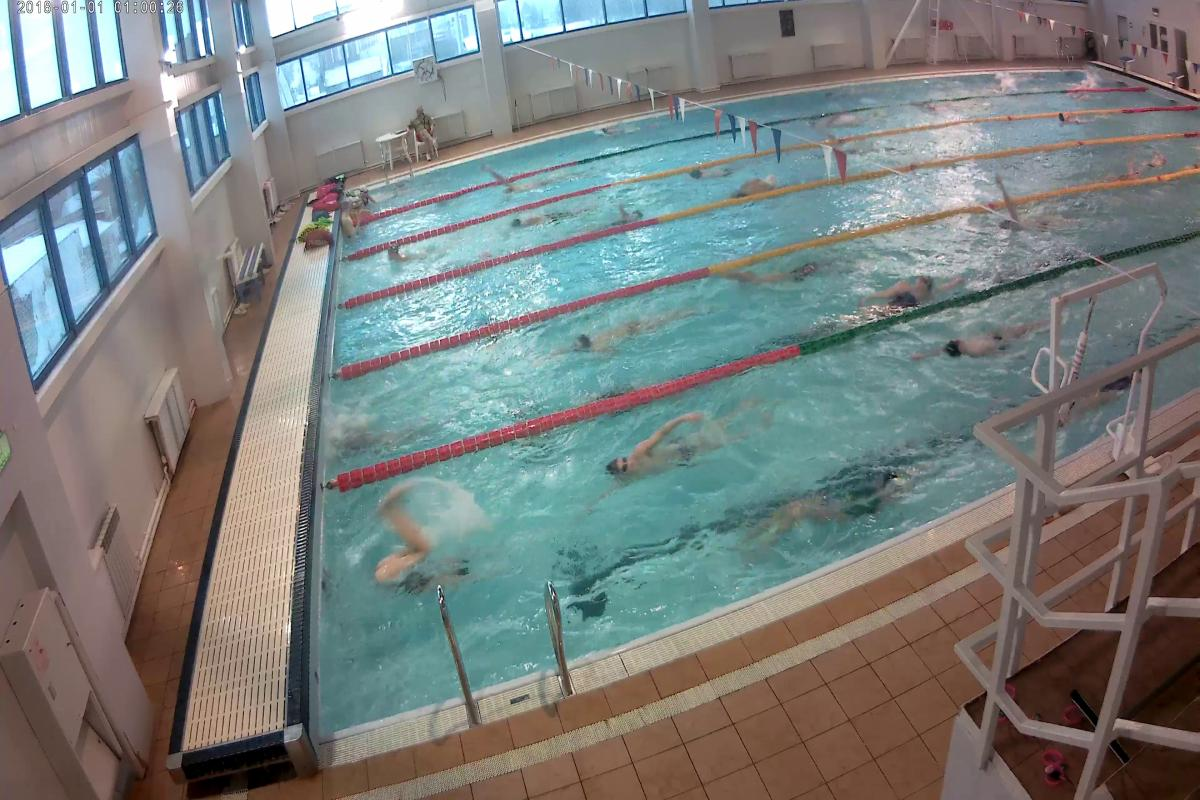swimmer: (767, 464, 904, 546), (603, 403, 734, 479), (364, 511, 477, 597), (546, 311, 686, 352), (918, 326, 1033, 369), (997, 192, 1069, 250), (856, 262, 947, 307), (344, 413, 426, 447), (732, 258, 838, 284), (514, 201, 586, 234), (384, 240, 438, 274), (730, 172, 784, 196), (612, 204, 652, 230)
